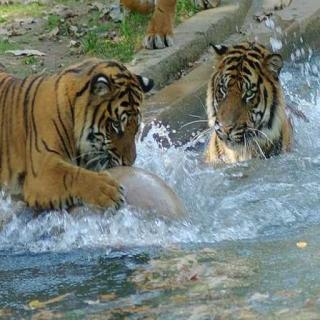Tiger: (0, 47, 151, 229), (199, 31, 297, 169)
